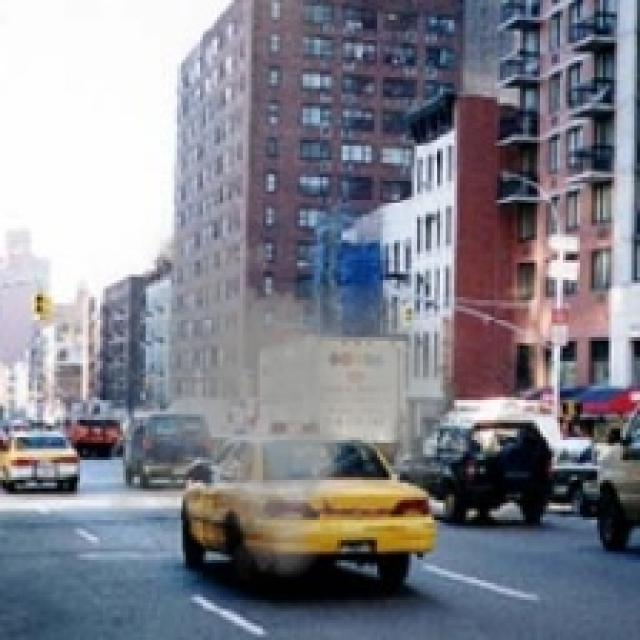smoke: (108, 217, 463, 592)
